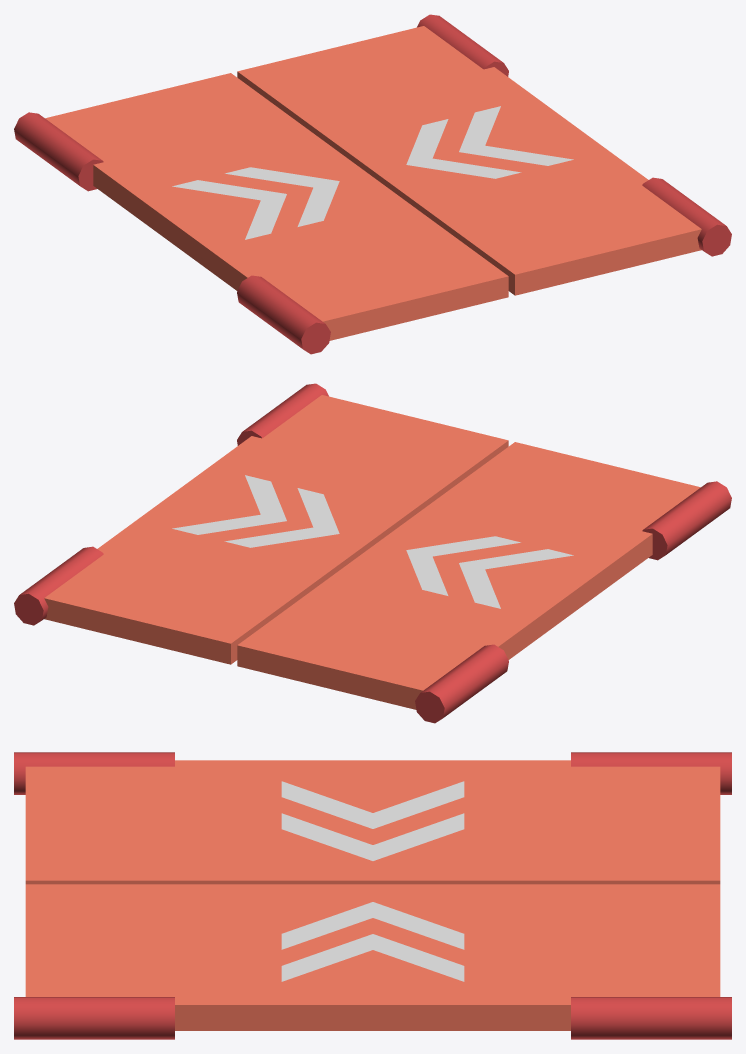
The model's file is most (1).fbx.
3 views of the same model, one above another, from view 1: azimuth 30°, elevation 25°; view 2: azimuth 150°, elevation 25°; view 3: azimuth 270°, elevation 25° (orthographic). The views are drawn at different scales.
Visible parts, largest first — view 1: Plane, Plane.001; view 2: Plane, Plane.001; view 3: Plane.001, Plane.
Part boxes in pixels (<box>): Plane: <box>14,73,508,354</box>; Plane.001: <box>237,14,731,295</box>; Plane: <box>237,442,731,723</box>; Plane.001: <box>14,383,508,664</box>; Plane.001: <box>14,884,731,1039</box>; Plane: <box>14,752,731,884</box>.
Bounding box in the file's own units: 132 × 8.94 × 152.
